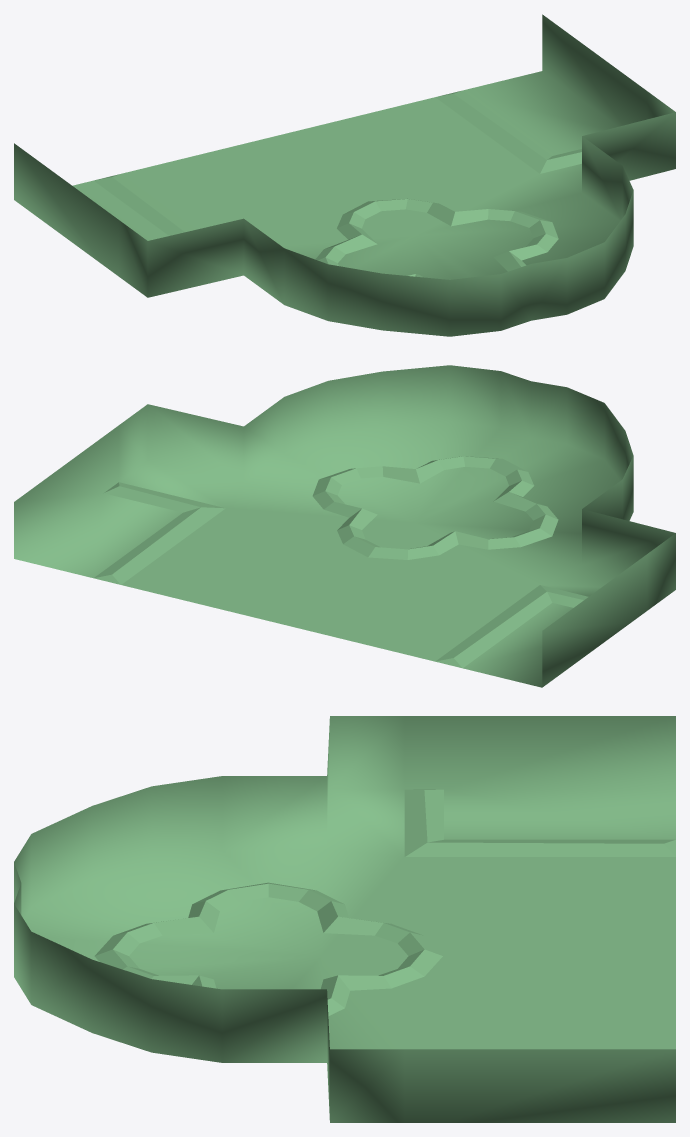
Rendered from Hallway_Cap_16_A_COL.fbx.
3 renders of one model, top to bottom at view 1: azimuth 30°, elevation 25°; view 2: azimuth 150°, elevation 25°; view 3: azimuth 270°, elevation 25°, orthographic. The views are drawn at different scales.
Visible parts, largest first — view 1: Hallway_Cap_16_A_COL; view 2: Hallway_Cap_16_A_COL; view 3: Hallway_Cap_16_A_COL.
Boxes of the visible parts, box(x1,y1,x2,y2) form: Hallway_Cap_16_A_COL: box(14, 14, 675, 336); Hallway_Cap_16_A_COL: box(14, 365, 675, 687); Hallway_Cap_16_A_COL: box(14, 716, 675, 1122).
Size of the model in its own units: 1548 by 159 by 1299.
